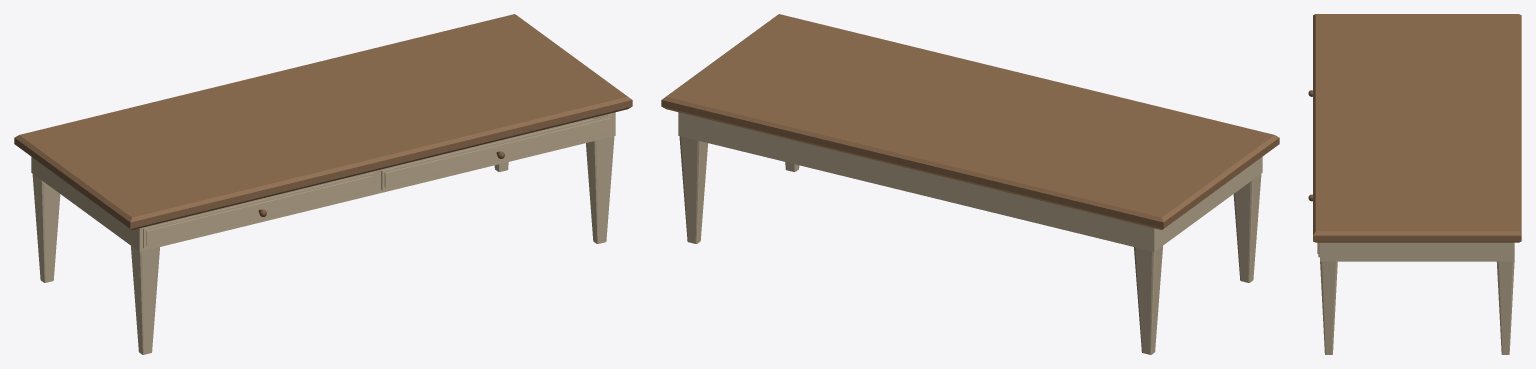
The model's file is CoffeeTable.glb.
3 views of the same model, side by side, from view 1: azimuth 30°, elevation 25°; view 2: azimuth 150°, elevation 25°; view 3: azimuth 270°, elevation 25° (orthographic). The views are drawn at different scales.
Visible parts, largest first — view 1: Coffee Table; view 2: Coffee Table; view 3: Coffee Table.
Part boxes in pixels (x1,y1,x2,y2): Coffee Table: (14, 14, 632, 354); Coffee Table: (661, 14, 1279, 354); Coffee Table: (1308, 14, 1521, 354).
Size of the model in its own units: 2 by 0.5525 by 0.8176.
Materials: 1 (1 with a texture image).
